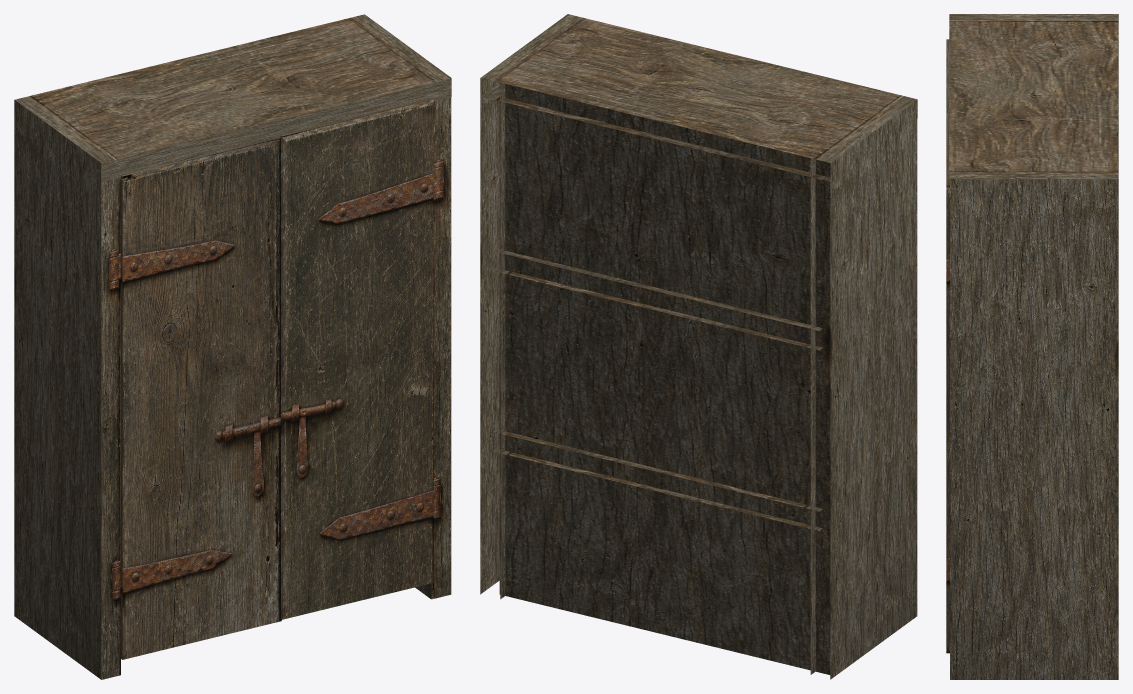
Rendered from mm9_deco_weaponscabinet01.glb.
3 views of the same model, side by side, from view 1: azimuth 30°, elevation 25°; view 2: azimuth 150°, elevation 25°; view 3: azimuth 270°, elevation 25° (orthographic). The views are drawn at different scales.
Visible parts, largest first — view 1: Weaponscabinet01; view 2: Weaponscabinet01; view 3: Weaponscabinet01.
Part boxes in pixels (x1,y1,x2,y2): Weaponscabinet01: (14, 14, 451, 679); Weaponscabinet01: (480, 14, 917, 679); Weaponscabinet01: (946, 14, 1118, 679).
Size of the model in its own units: 2.27 by 3.2 by 1.
1 material, 1 textured.
